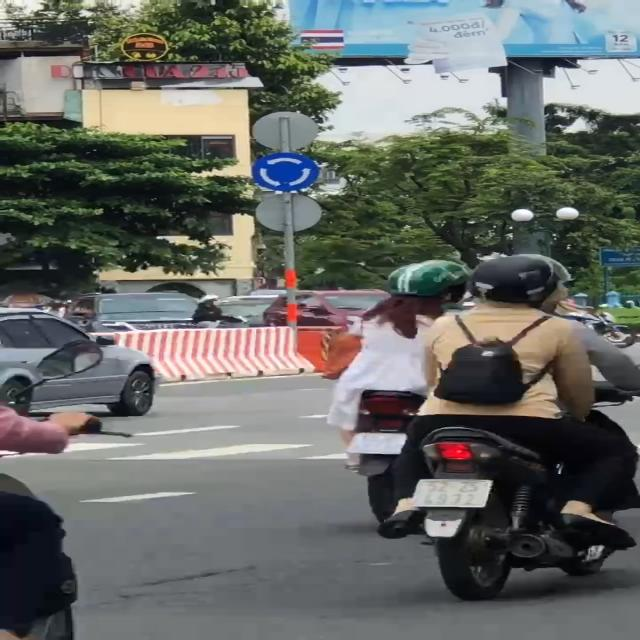Bien bao noi giao nhau chay theo vong xuyen: (247, 150, 327, 195)
